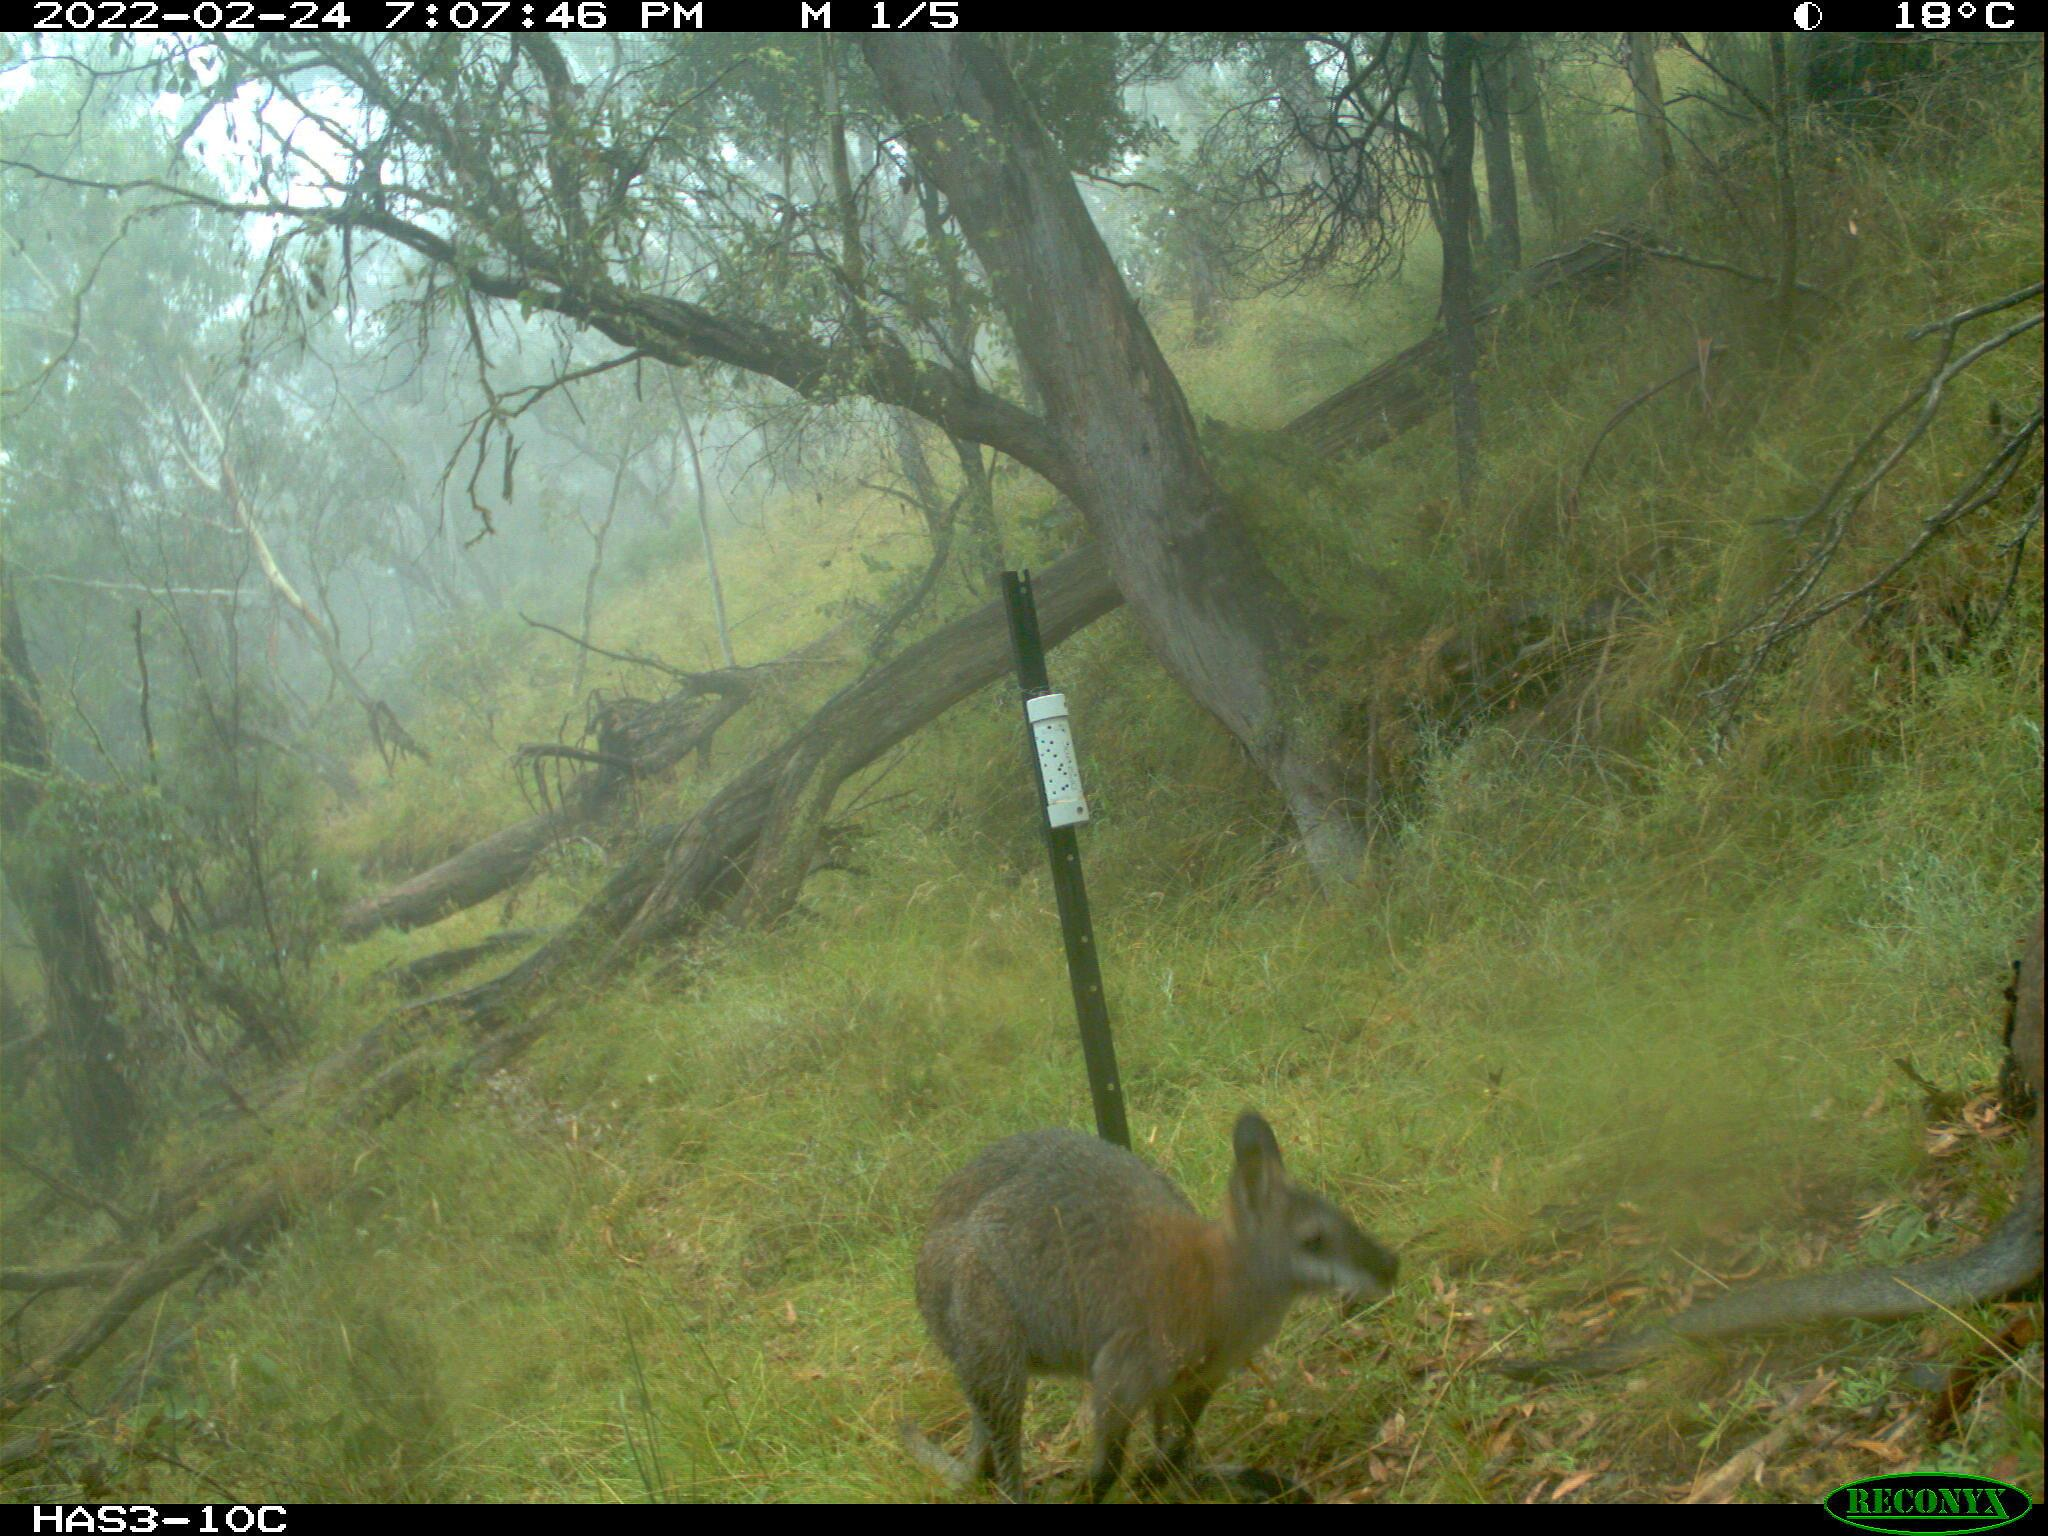Red-necked wallaby: (863, 1108, 1409, 1501)
